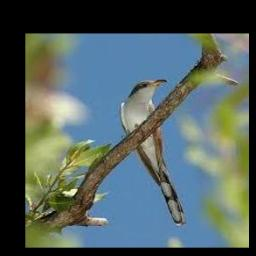Cuckoo: (120, 78, 185, 227)
